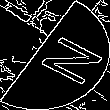N_NW: (16, 25, 94, 85)
